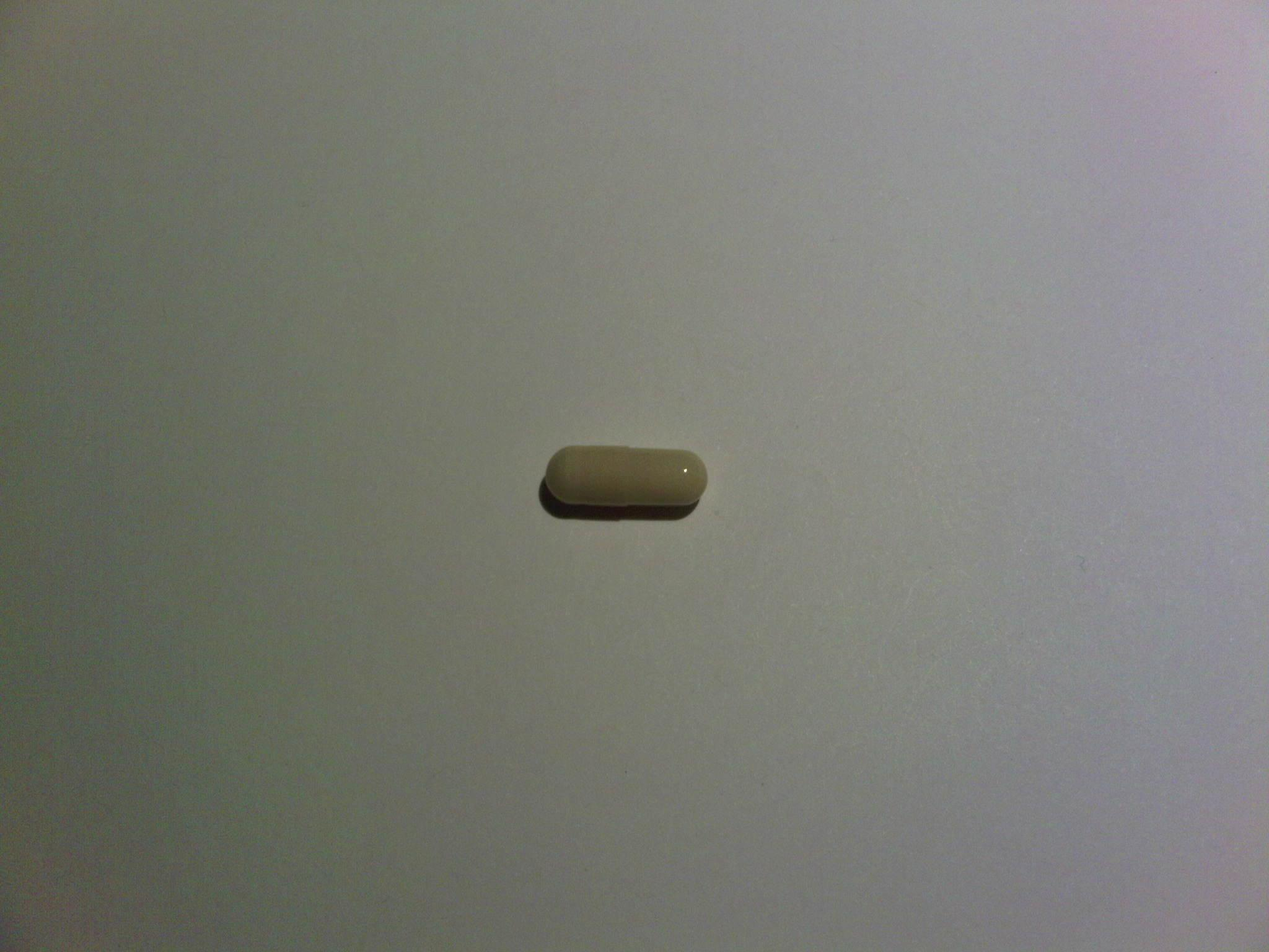Pill: (541, 439, 711, 521)
